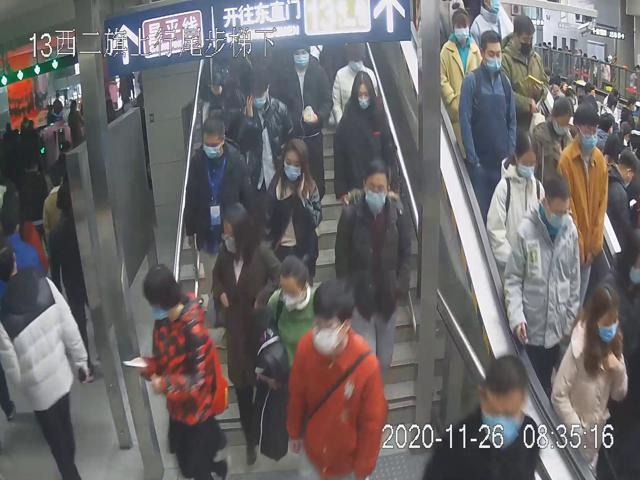person: (137, 259, 233, 480), (286, 278, 388, 480), (213, 199, 282, 474), (333, 156, 412, 390), (502, 175, 580, 372), (549, 281, 629, 470), (182, 113, 252, 293), (556, 98, 611, 313), (459, 28, 517, 222), (257, 255, 322, 411), (485, 129, 548, 266), (230, 65, 293, 200), (266, 135, 322, 286), (333, 72, 395, 204), (279, 42, 333, 191), (332, 37, 381, 129)
